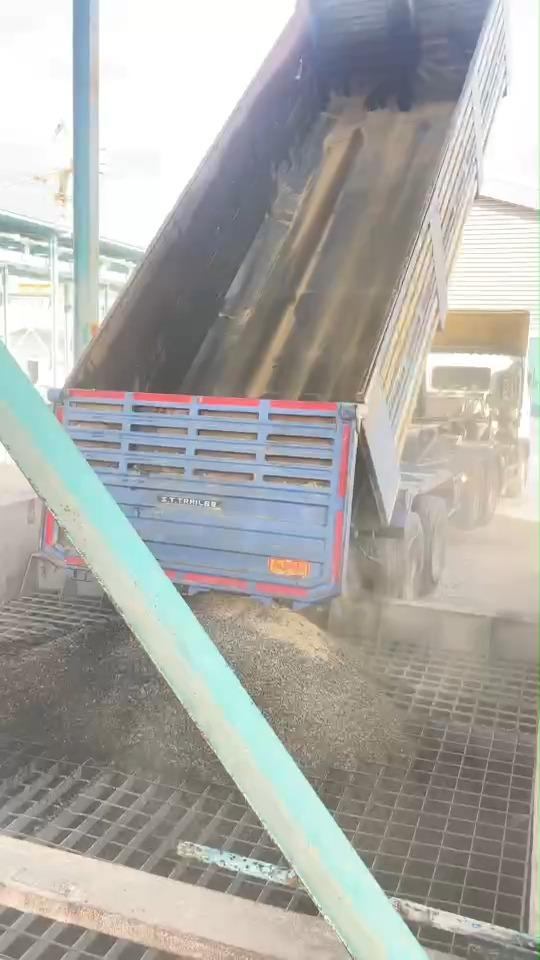gravel: (193, 595, 408, 772), (0, 628, 220, 774)
